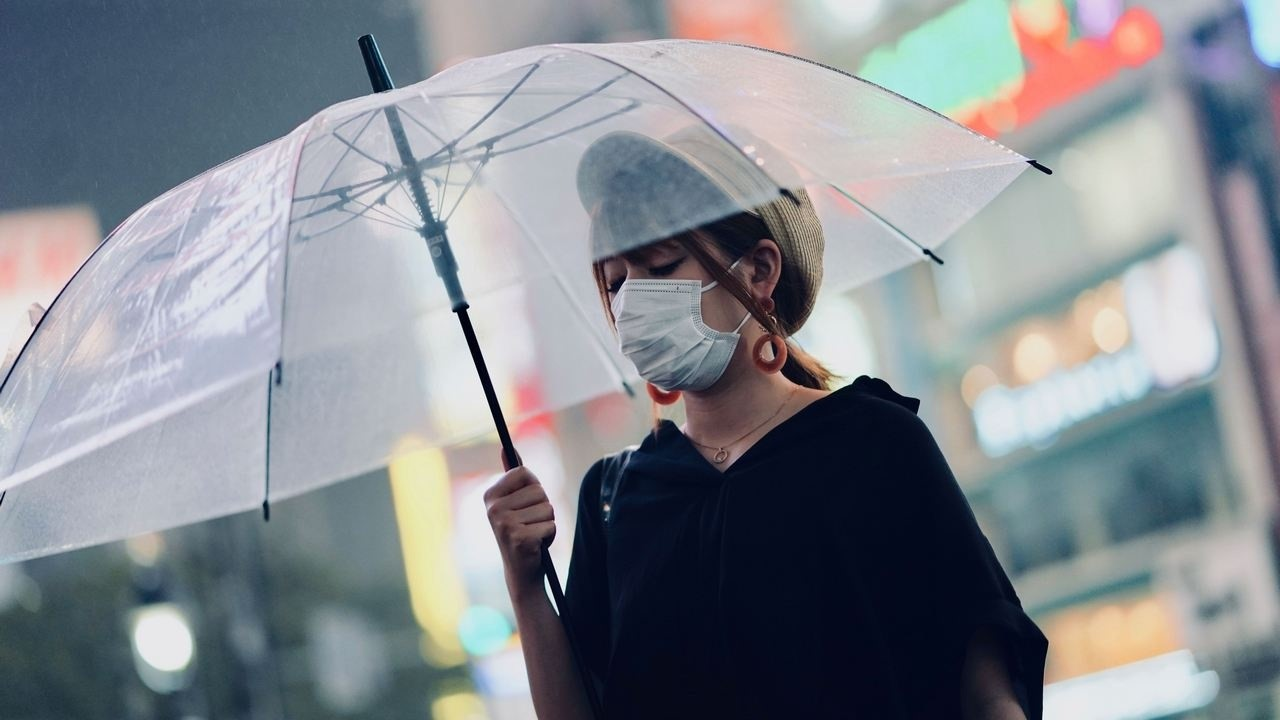face_with_mask: (578, 115, 841, 397)
